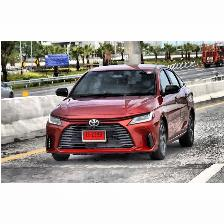NON-EV: (45, 66, 196, 165)
